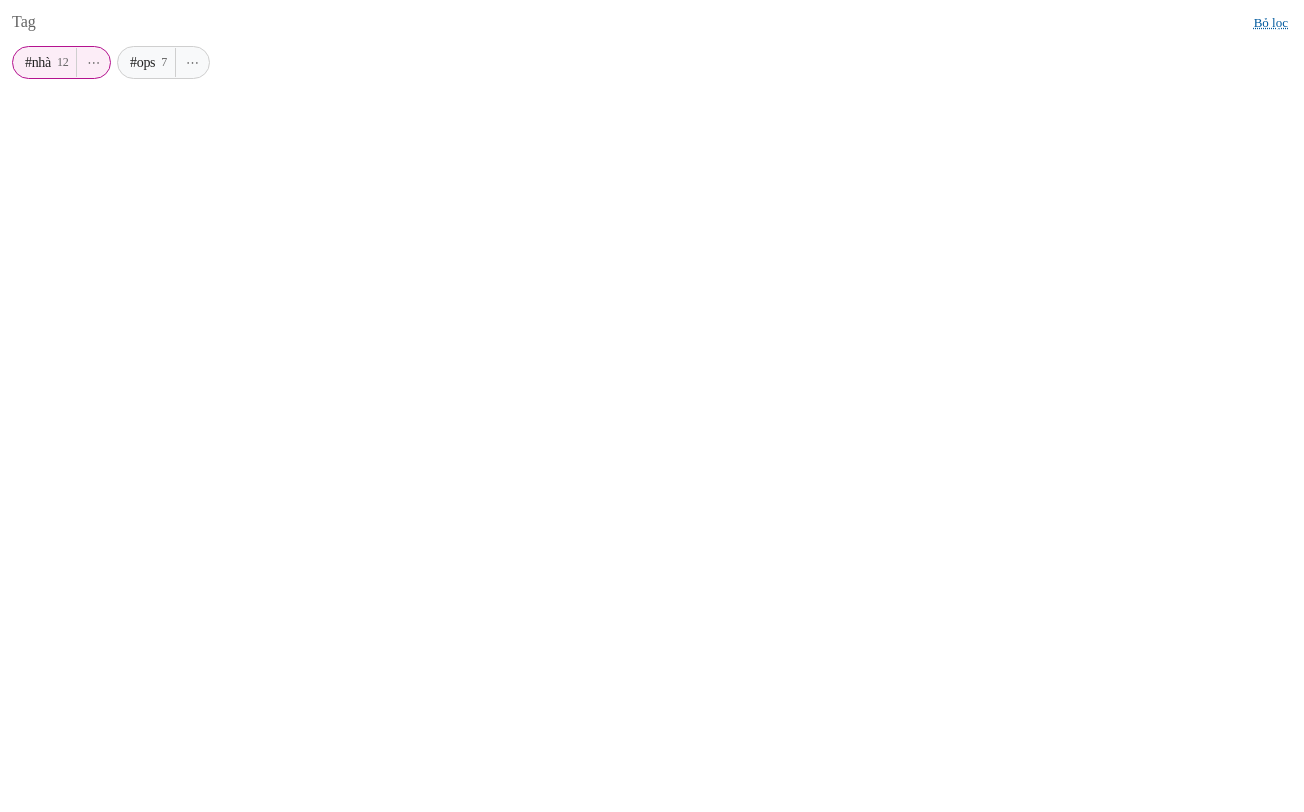
Scenario: Rail › xoá tag đang chọn sẽ xoá bộ lọc ?tag và hiển thị lỗi khi hoàn tác thất bại
Click the 1st button "⋯": (93, 63) [76,48,110,78]
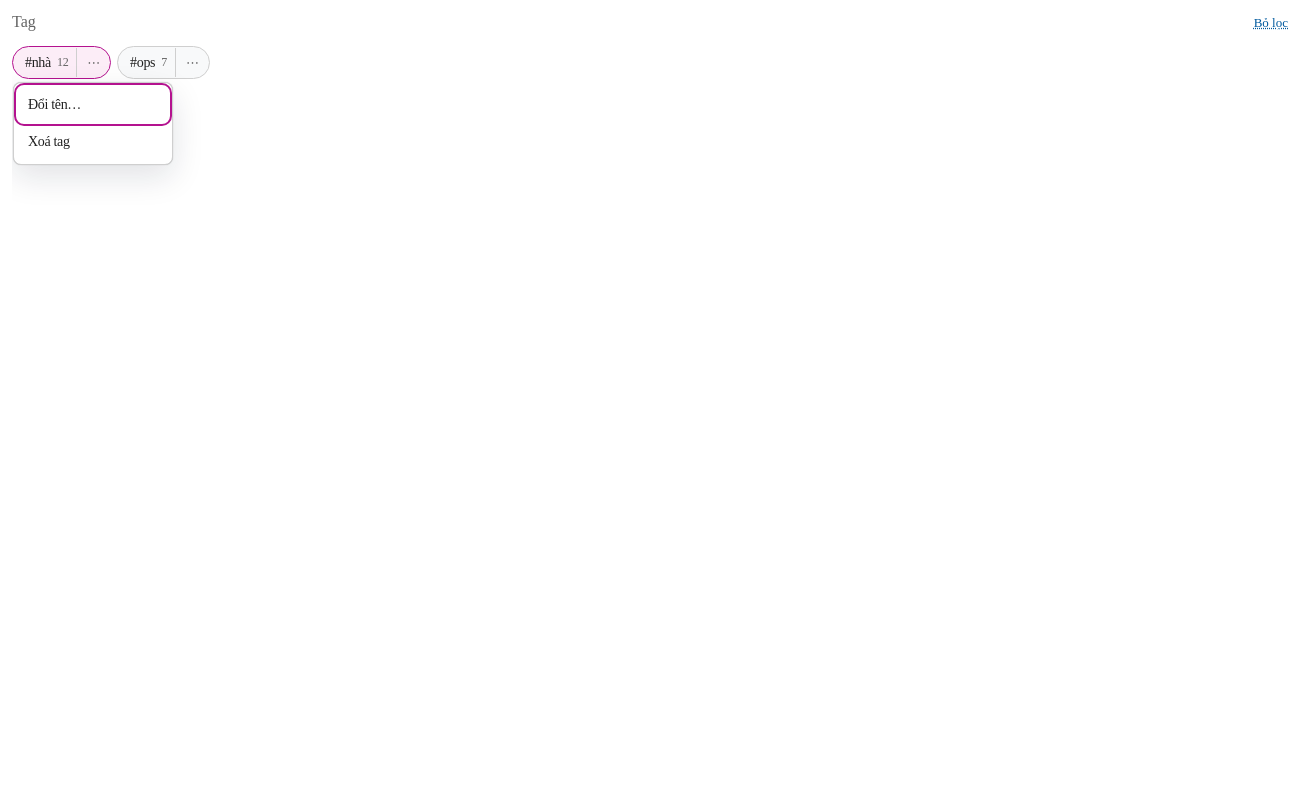
Click the menu item "Xoá tag": (93, 142) [18,124,168,160]
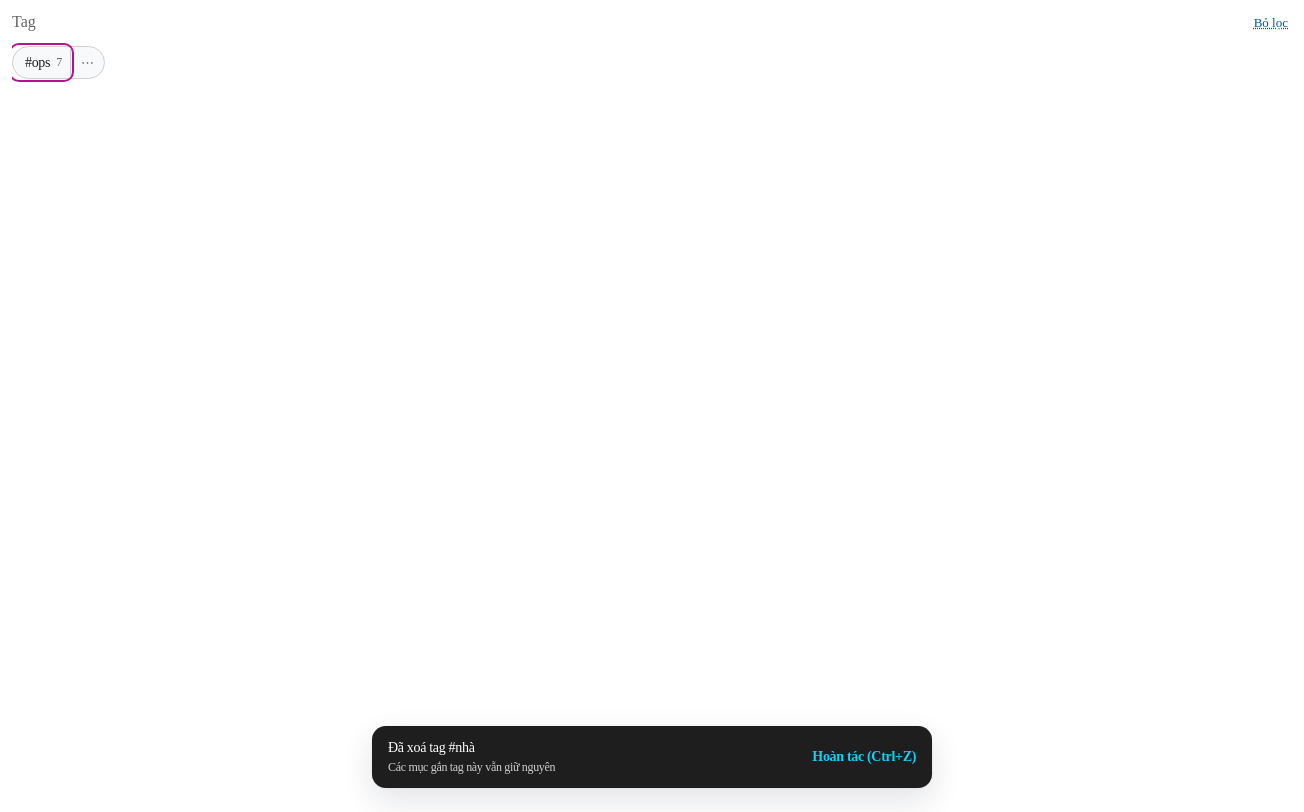
Click the button "Hoàn tác (Ctrl+Z)": (864, 757) [812,747,916,767]
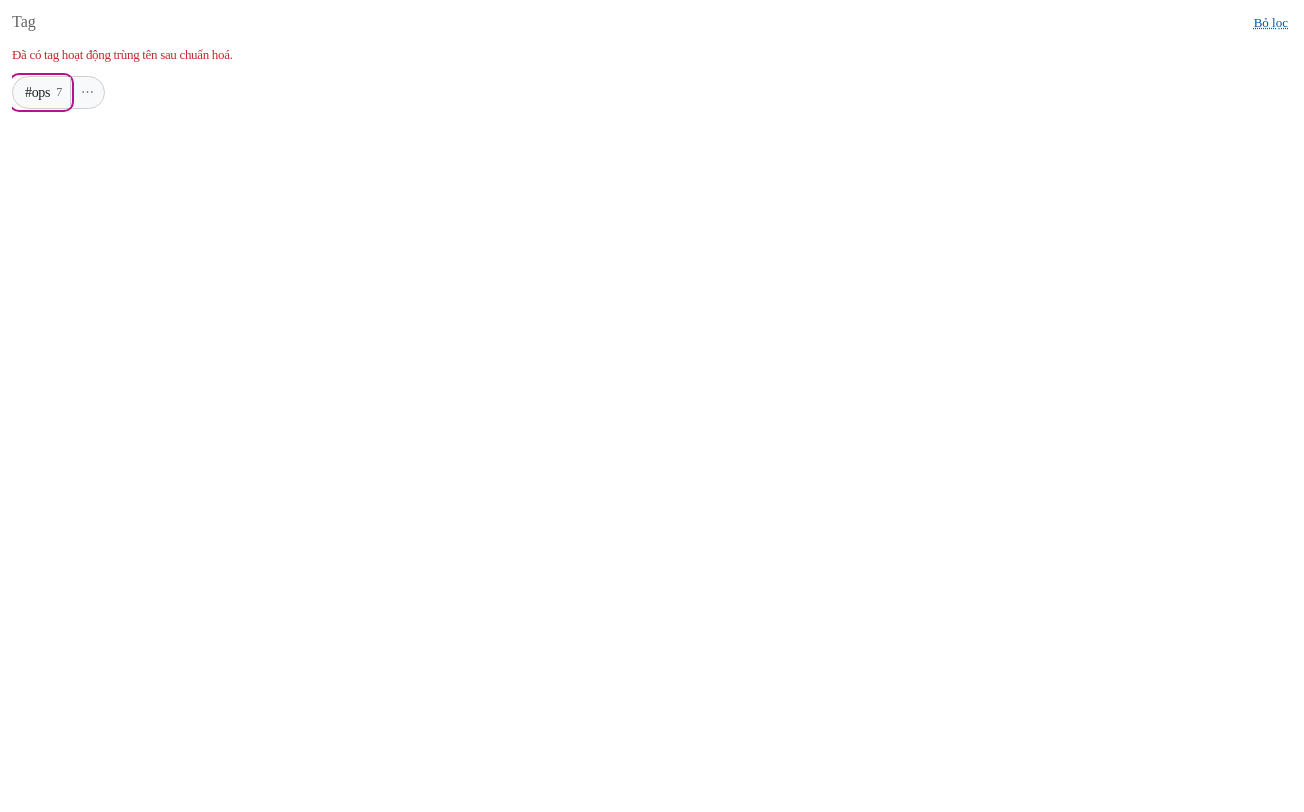
Now the message with test id "rail-tags-error" reads "Đã có tag hoạt động trùng tên sau chuẩn hoá.", box [12,47,233,62]
